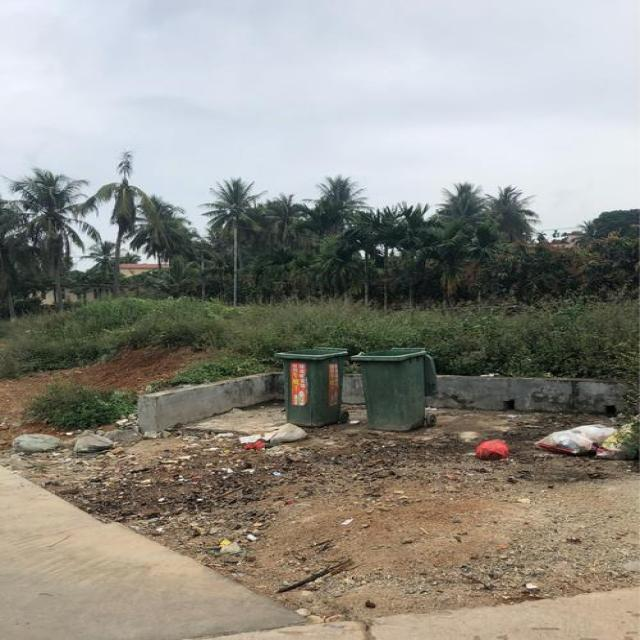garbage: (534, 413, 638, 458), (475, 436, 507, 460)
garbage_bin: (348, 347, 437, 430), (272, 345, 346, 425)
